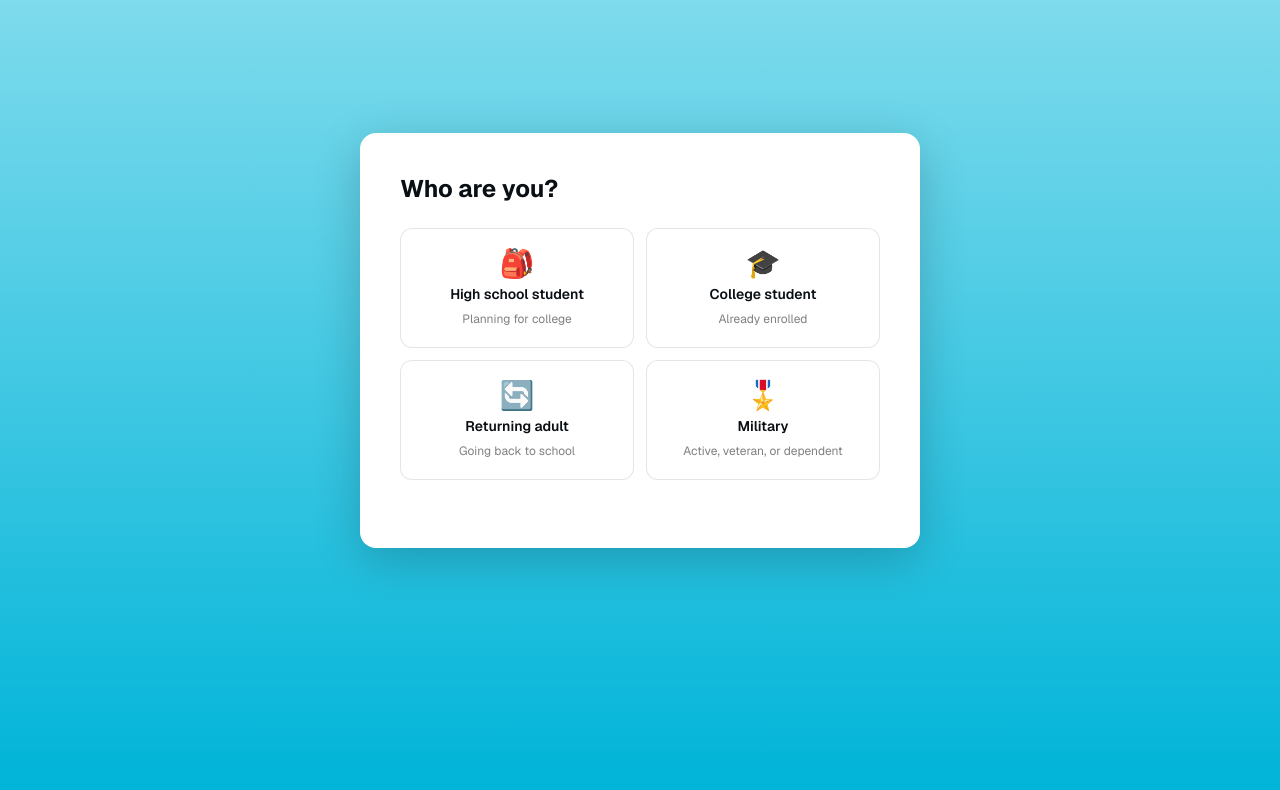
Test case: Profile page › Save button is enabled when all required fields filled
Click the text "High school student" at (517, 294), box [450, 284, 584, 302]
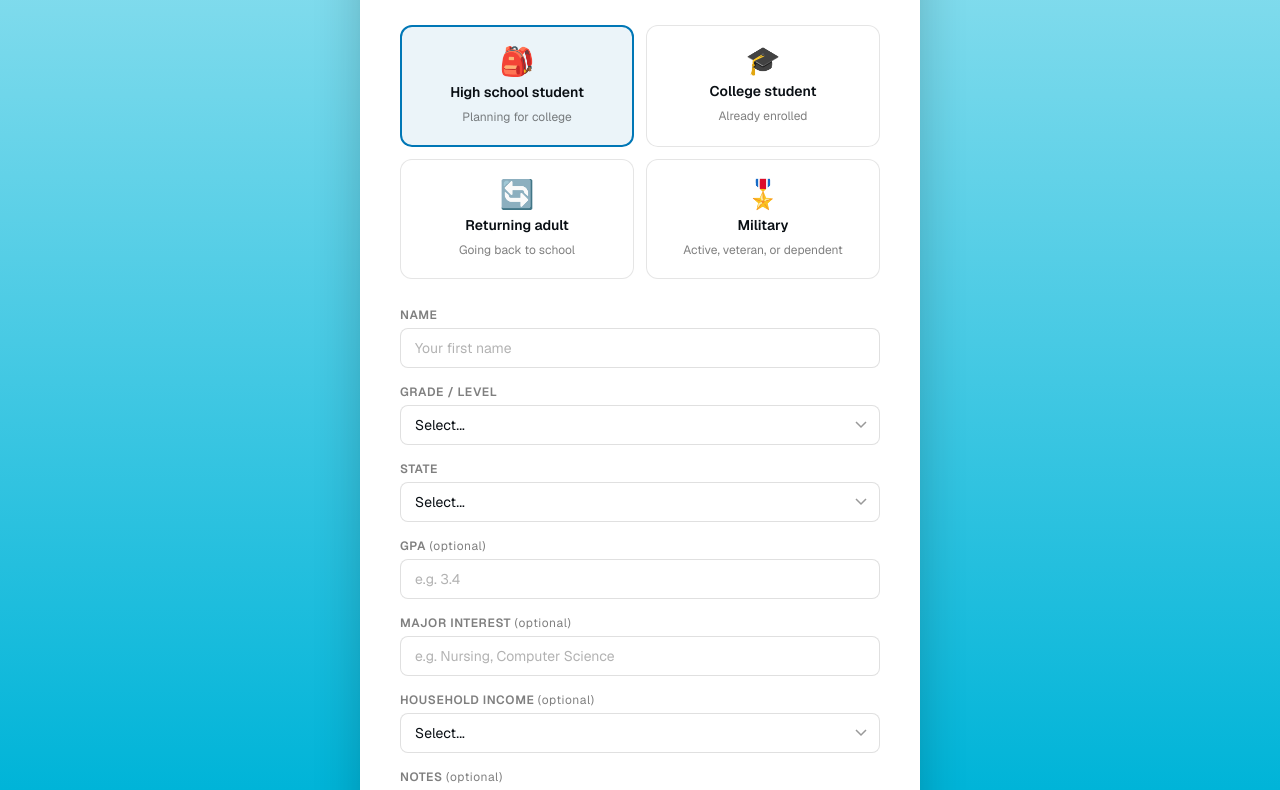
Type "Alex" into the field with placeholder "Your first name" at (640, 348), box [400, 328, 880, 368]
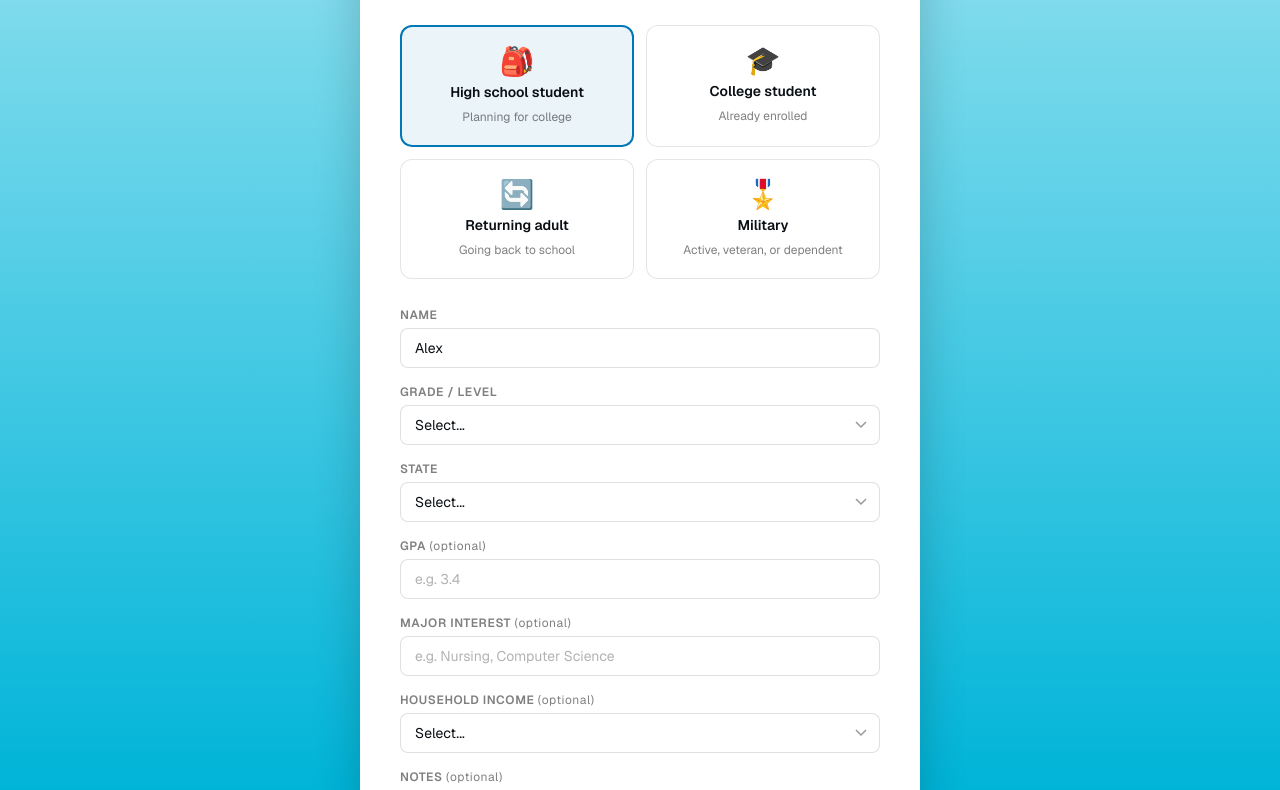
Select "11th" in the dropdown below "Grade / Level" at (640, 425), box [400, 405, 880, 445]
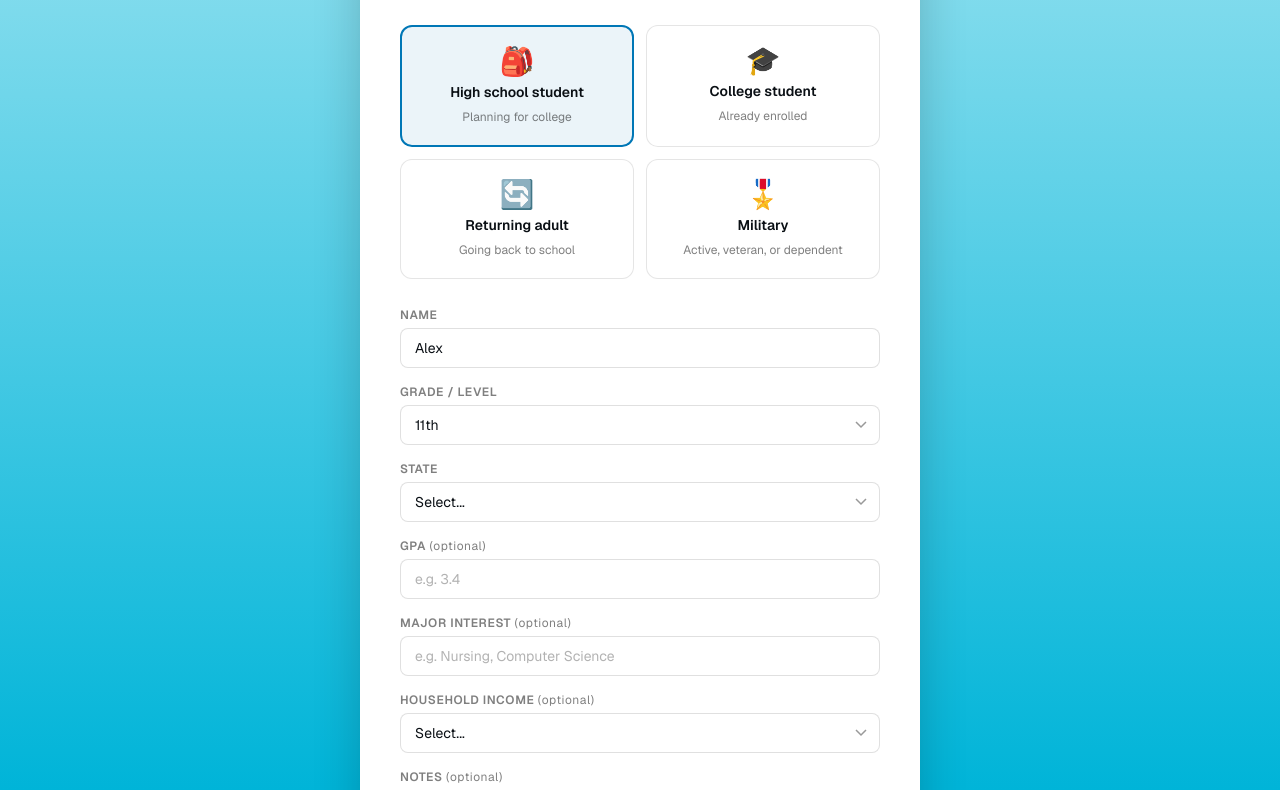
Select "Texas" in the dropdown below "State" at (640, 502), box [400, 482, 880, 522]
(page scrolled)
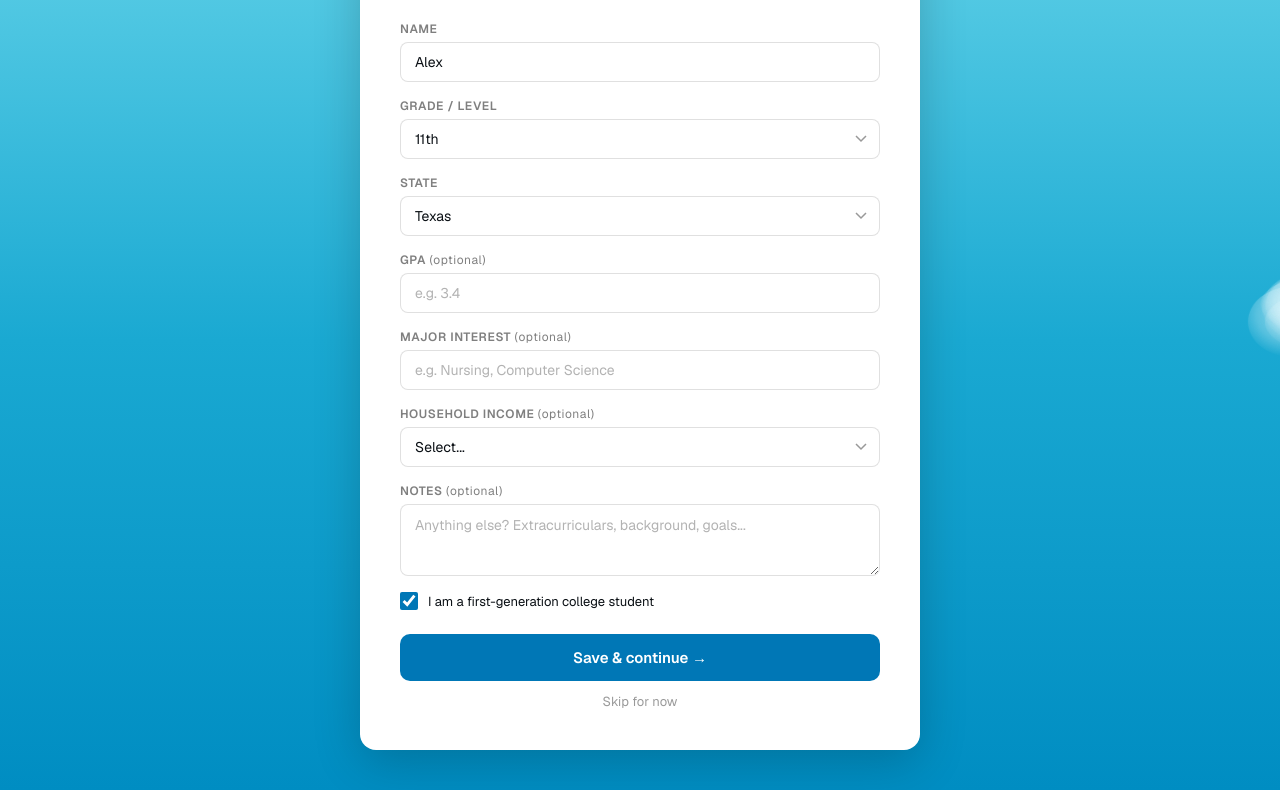
Result: the button "Save & continue →" is enabled at [400, 634, 880, 681]
